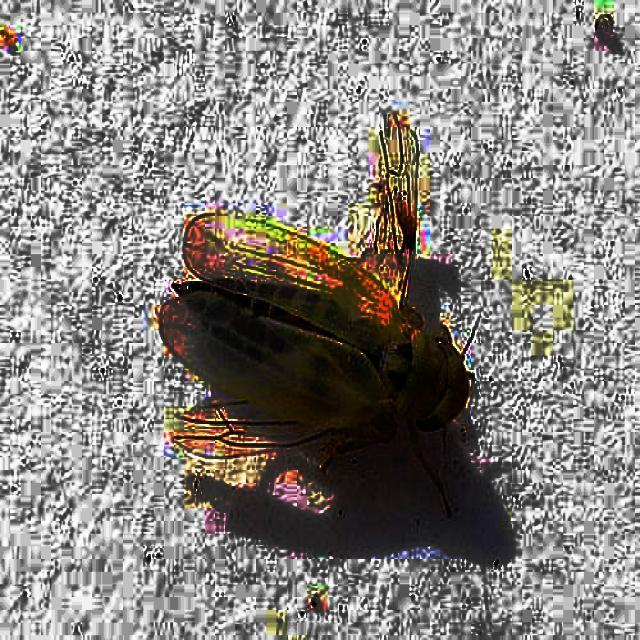green-leafhopper: (155, 206, 477, 468)
